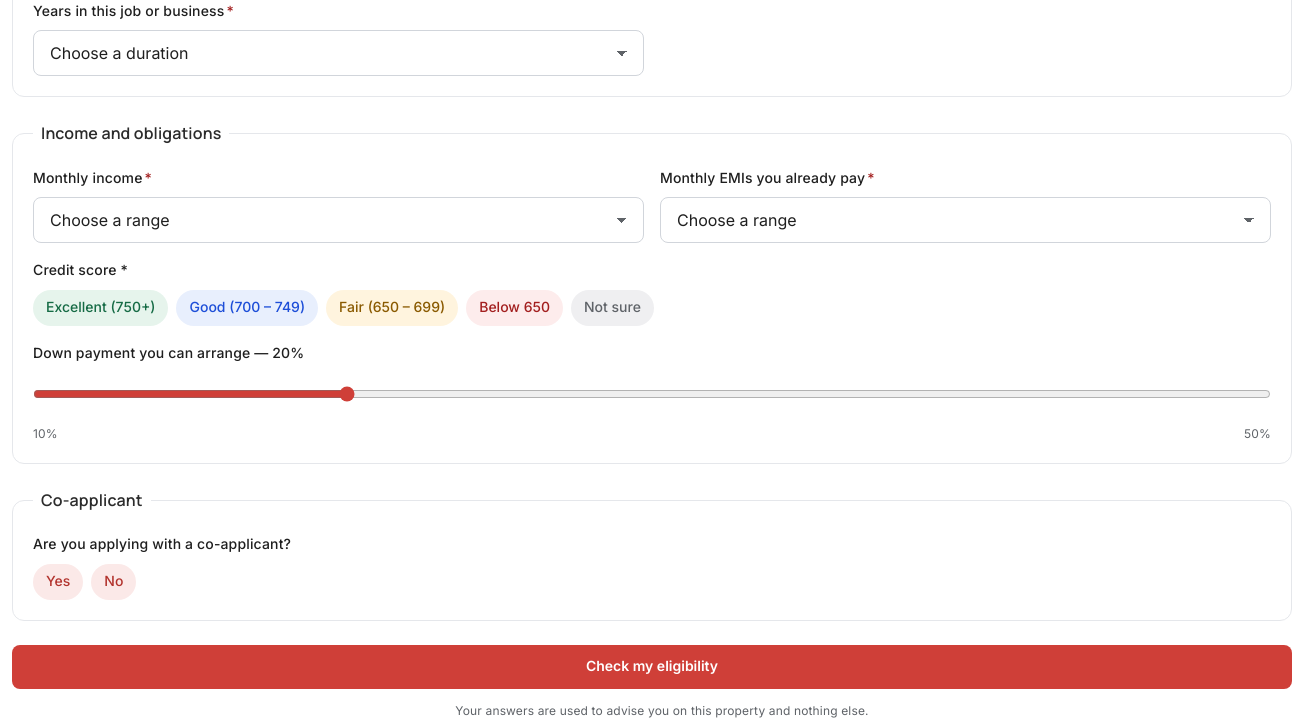
Test: <AssessmentForm> › refuses to submit an incomplete form and says what is missing
The image size is (1304, 720).
(page scrolled)
Click the button "Check my eligibility". click: point(652, 667)
box: [12,645,1292,689]
(page scrolled)
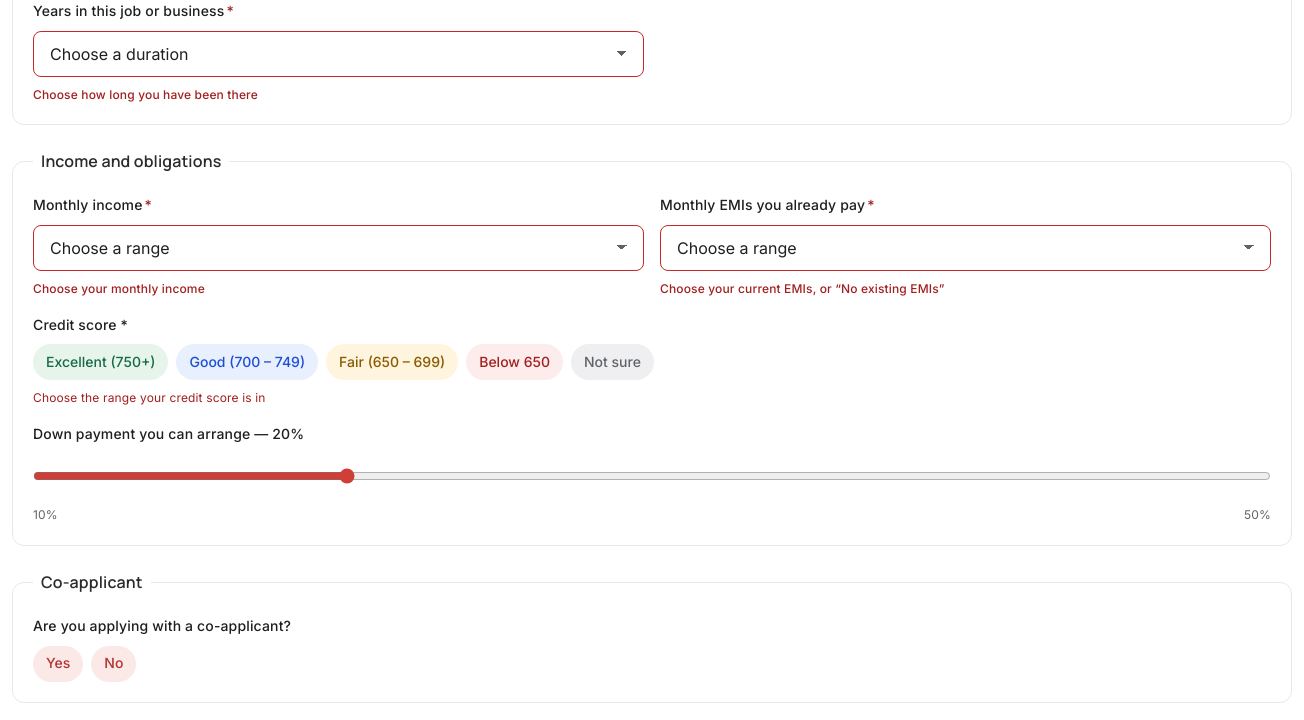
Now the text "Choose your monthly income" is shown, box [33,281,205,296]
